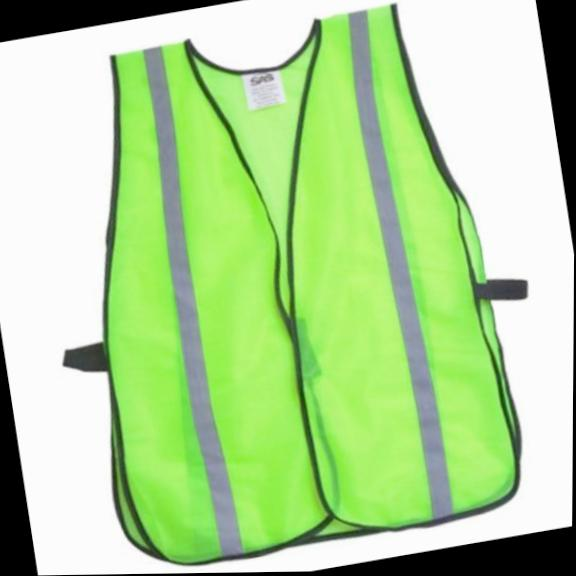safety_vest: (41, 0, 537, 575)
